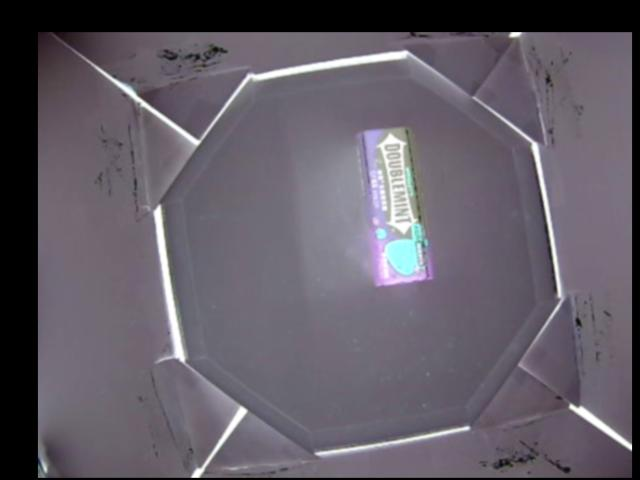Bottle: (357, 125, 435, 286)
